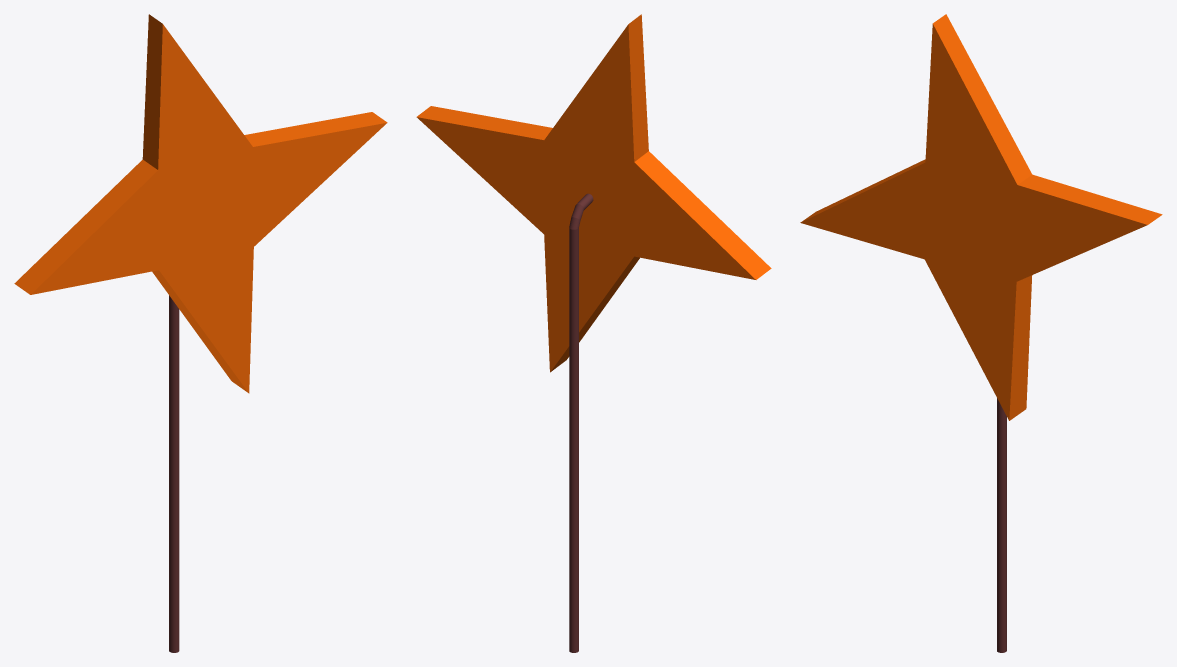
The model's file is windmill.fbx.
3 renders of one model, left to right at view 1: azimuth 30°, elevation 25°; view 2: azimuth 150°, elevation 25°; view 3: azimuth 330°, elevation 25°, orthographic. The views are drawn at different scales.
Parts seen in each view (by area): view 1: Cylinder; view 2: Cylinder; view 3: Cylinder.
Part boxes in pixels (bbox=[...]): Cylinder: bbox=[14, 14, 387, 652]; Cylinder: bbox=[416, 14, 771, 652]; Cylinder: bbox=[800, 14, 1162, 652].
Size of the model in its own units: 8010 by 14090 by 1404.
